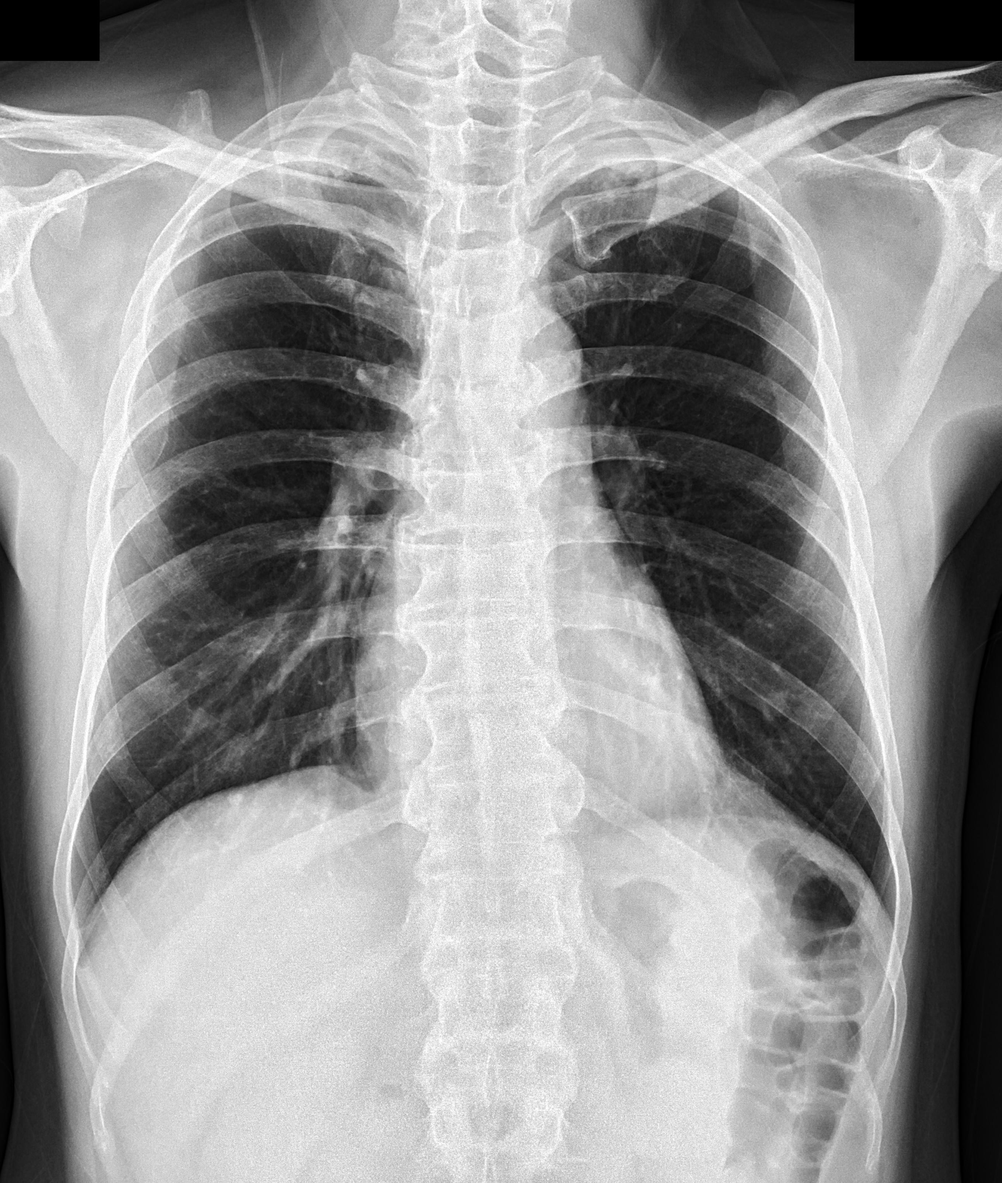Pleural thickening: (234, 128, 427, 175), (551, 153, 723, 202)
